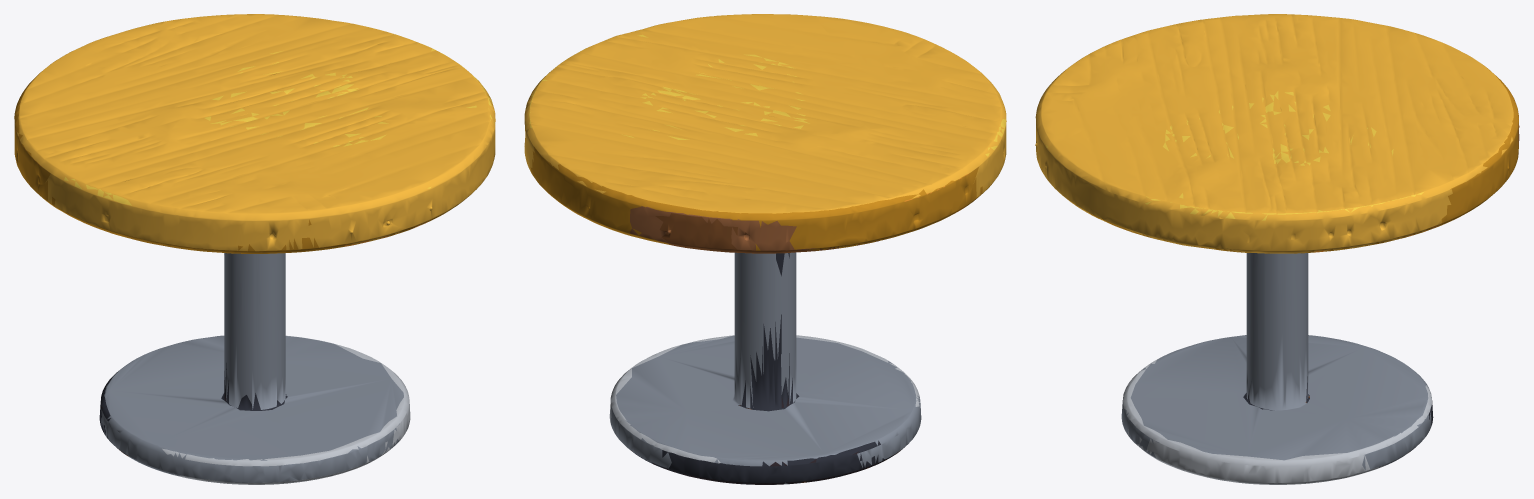
The model's file is SM_table_round_cafe.glb.
3 renders of one model, left to right at view 1: azimuth 30°, elevation 25°; view 2: azimuth 150°, elevation 25°; view 3: azimuth 270°, elevation 25°, orthographic.
Parts seen in each view (by area): view 1: SM_table_round_cafe; view 2: SM_table_round_cafe; view 3: SM_table_round_cafe.
Part boxes in pixels (x1,y1,x2,y2): SM_table_round_cafe: [14, 14, 495, 484]; SM_table_round_cafe: [524, 14, 1006, 484]; SM_table_round_cafe: [1035, 14, 1519, 484].
Bounding box in the file's own units: 0.9189 × 0.65 × 0.9219.
1 material, 1 textured.
